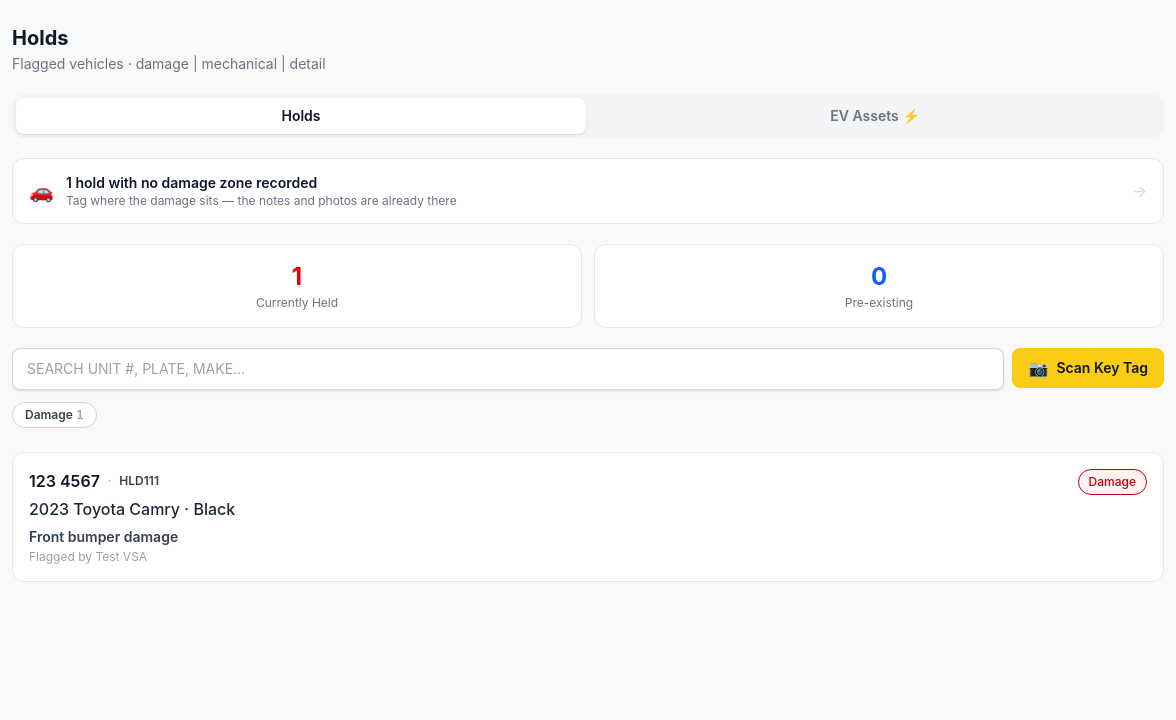
Test case: HoldsView — search › filters by plate fragment
Type "CLR" into the field with placeholder "Search unit #, plate, make…" at x=508, y=369, box [12,348,1004,390]
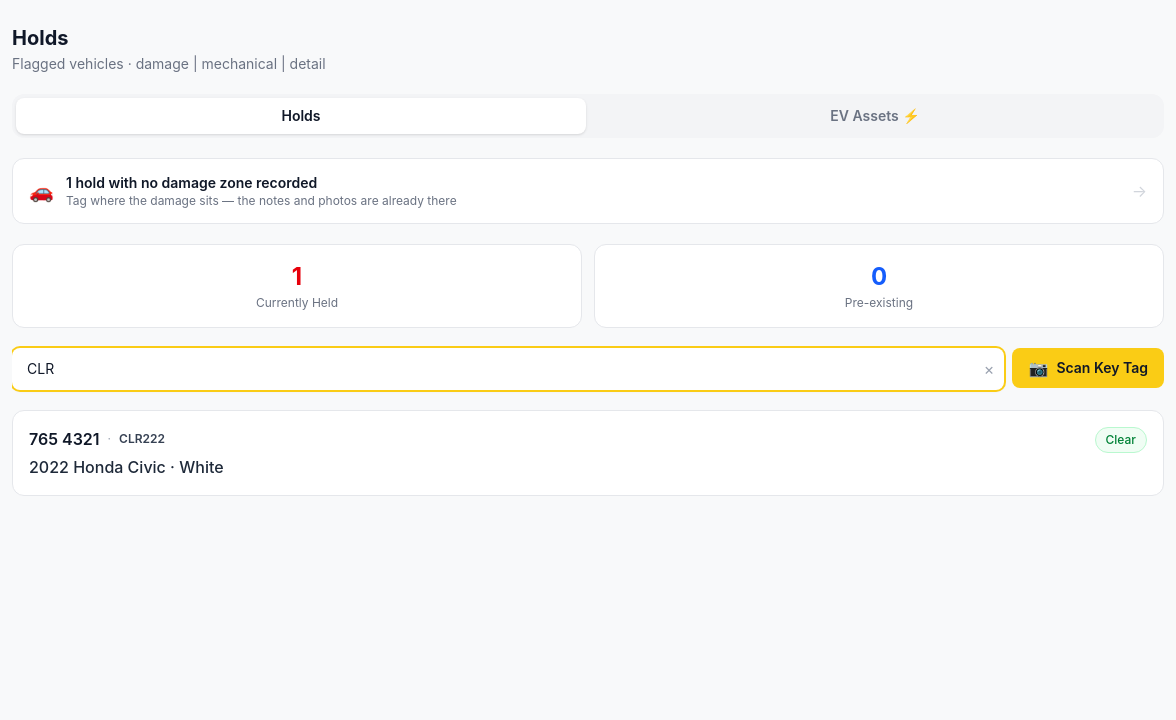
Expected: the text "CLR222" is shown, [119,431,165,447]
